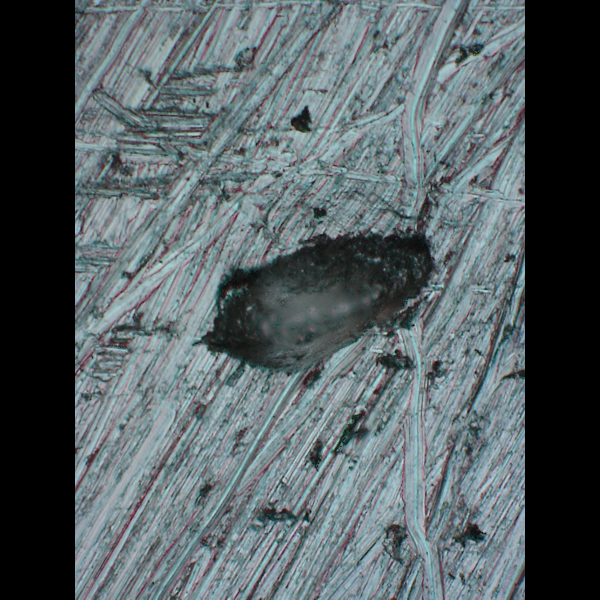d: (194, 220, 446, 377)
